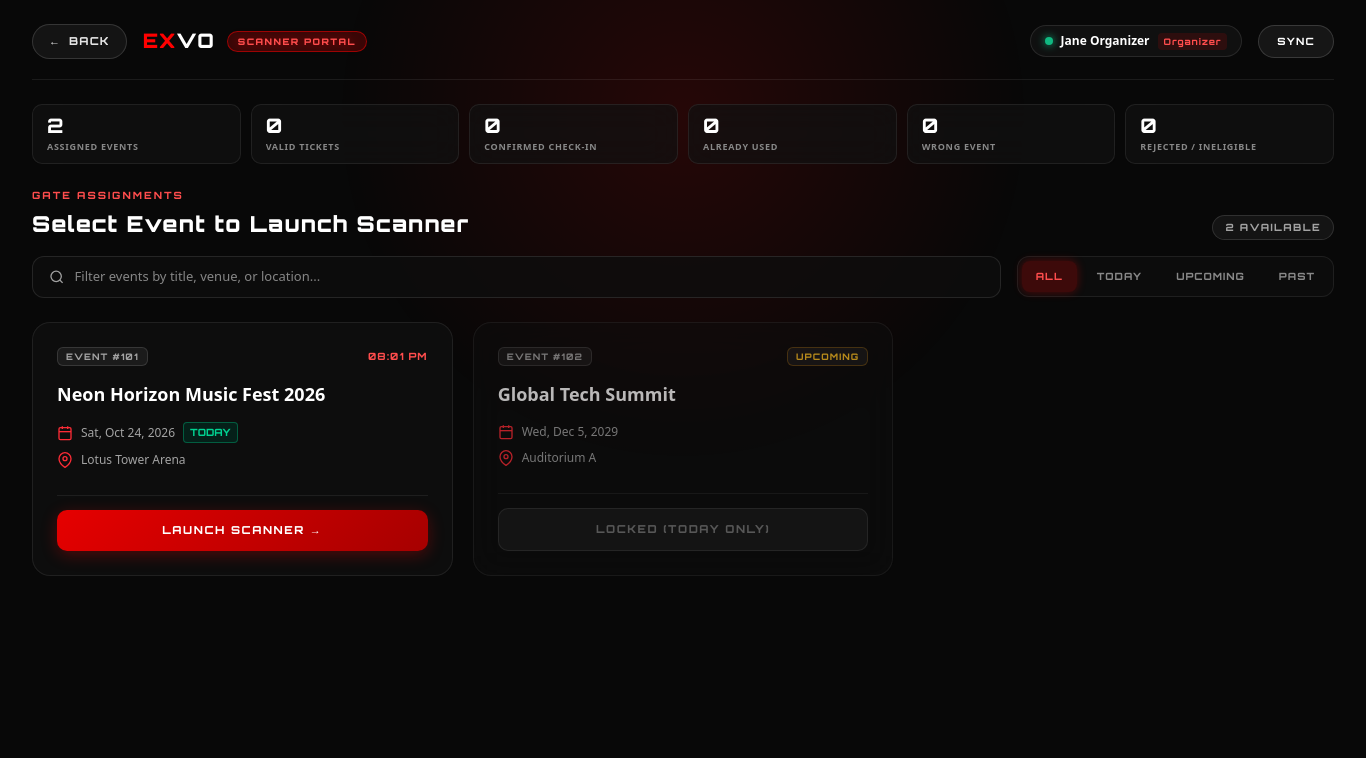
it: CoordinatorScannerPortal (SCRUM-30) › SCRUM-31: handles WRONG_EVENT, ALREADY_USED, and NOT_ELIGIBLE statuses
The width and height of the screenshot is (1366, 758).
Expected: the heading "Neon Horizon Music Fest 2026" is shown, [57,382,325,406]
Click the button "LAUNCH SCANNER →" at (242, 531), box [57,510,428,551]
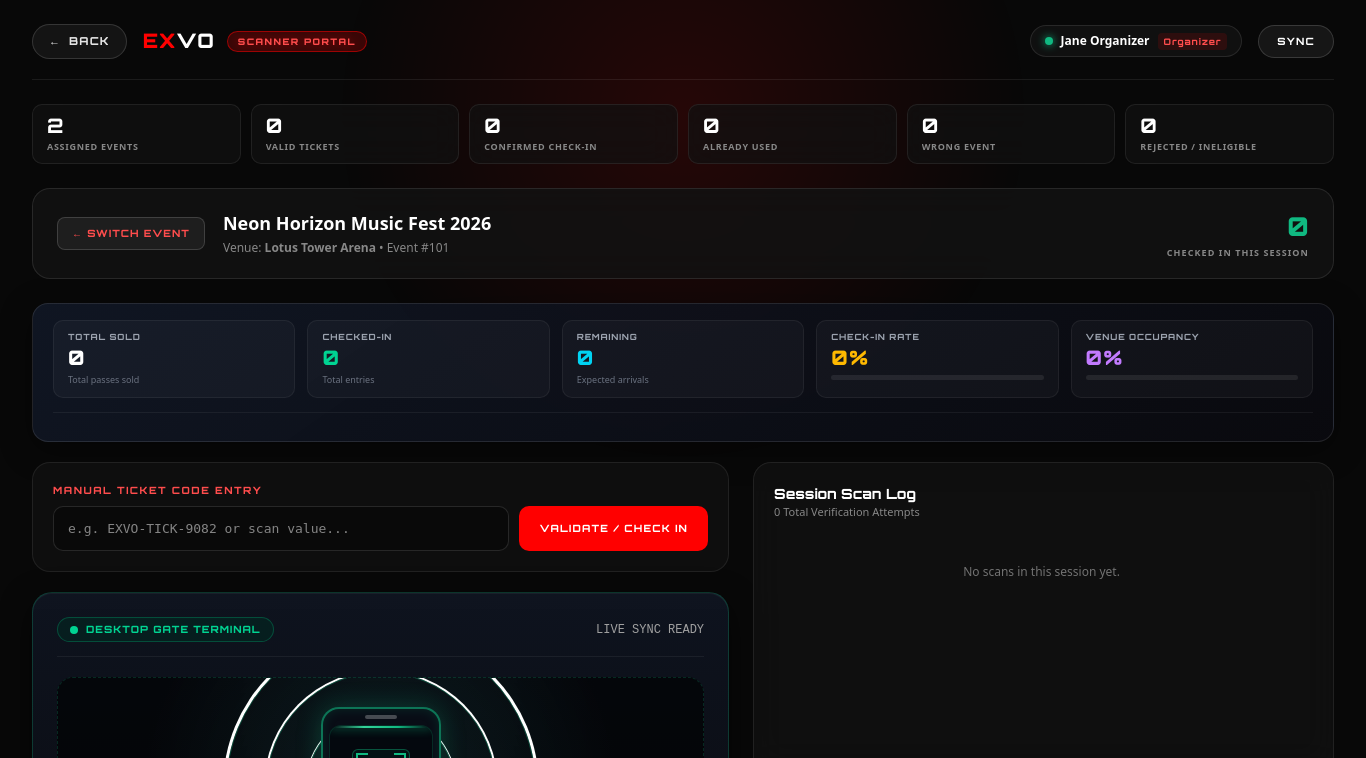
Expected: the field labelled "MANUAL TICKET CODE ENTRY" is shown
Test WRONG_EVENT
Type "TICK-WRONG" into the field labelled "MANUAL TICKET CODE ENTRY" at (281, 529), box [53,506,510,551]
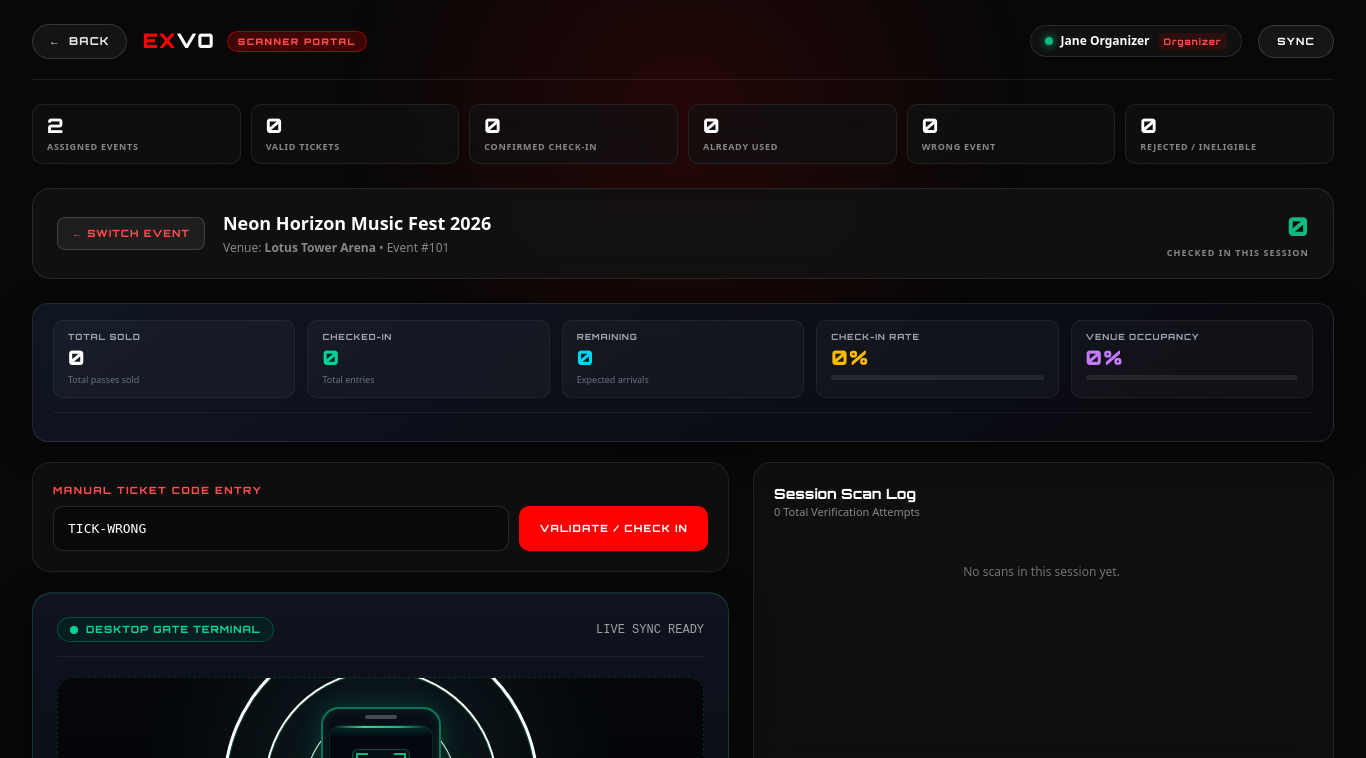
Click the button "VALIDATE / CHECK IN" at (614, 529), box [520,506,708,551]
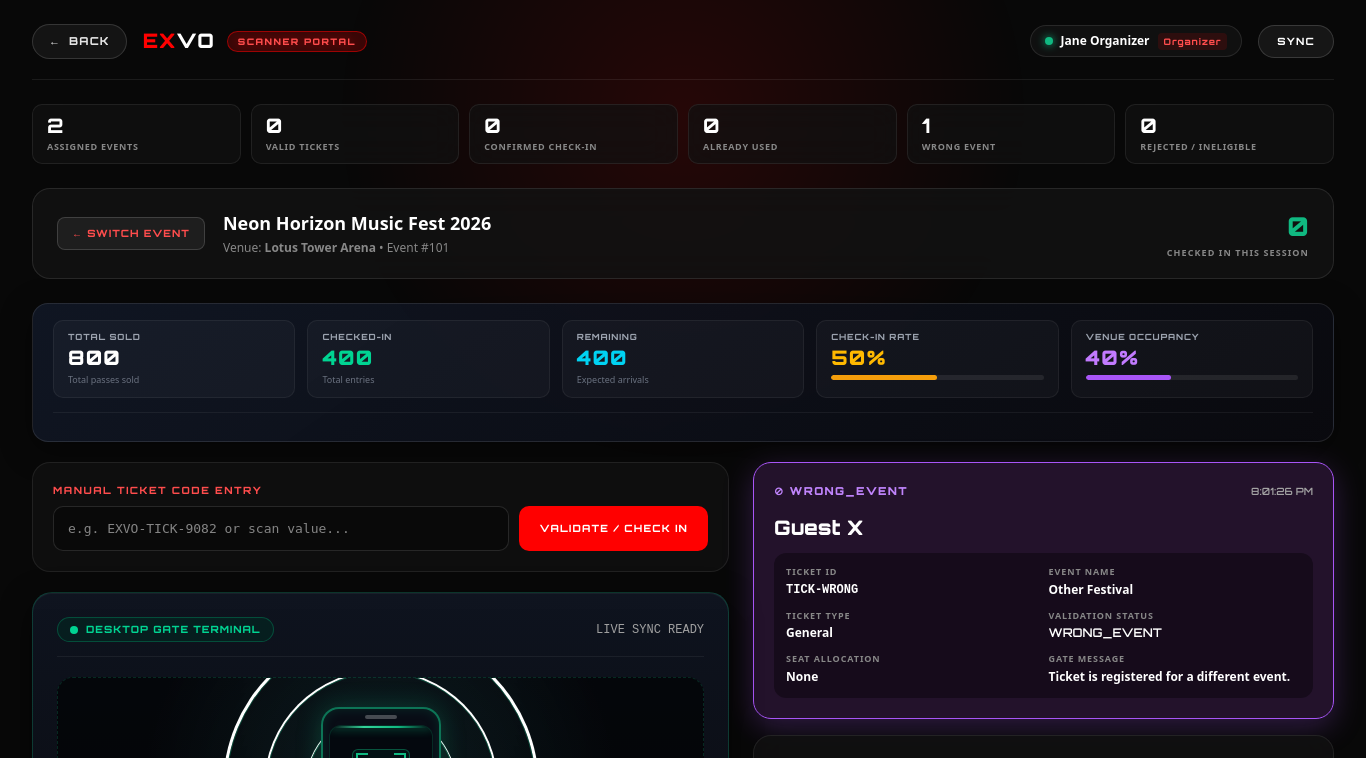
Expected: the text "⊘ WRONG_EVENT" is shown, [774,483,908,499]
Expected: the text "Ticket is registered for a different event." is shown, [1048,668,1301,686]
Test NOT_ELIGIBLE
Type "TICK-INELIGIBLE" into the field labelled "MANUAL TICKET CODE ENTRY" at (281, 529), box [53,506,510,551]
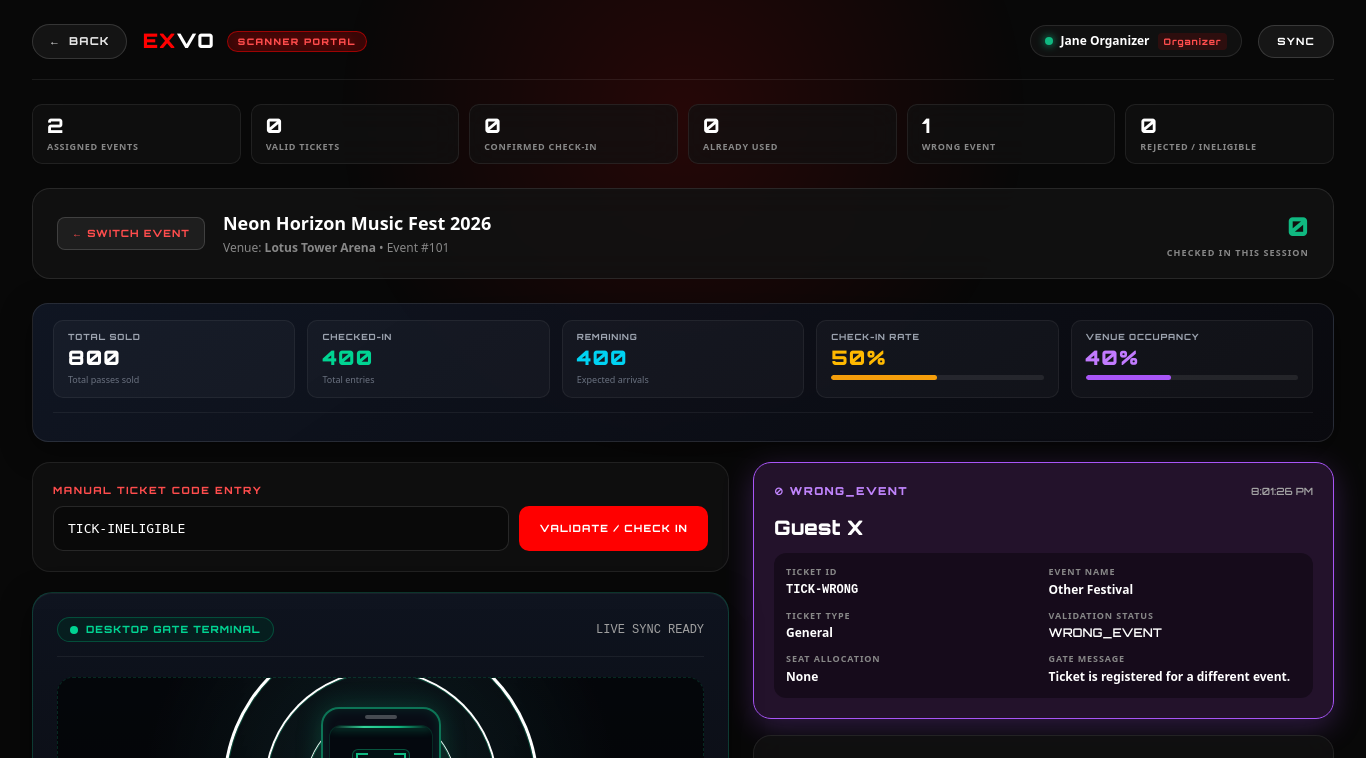
Click the button "VALIDATE / CHECK IN" at (614, 529), box [520,506,708,551]
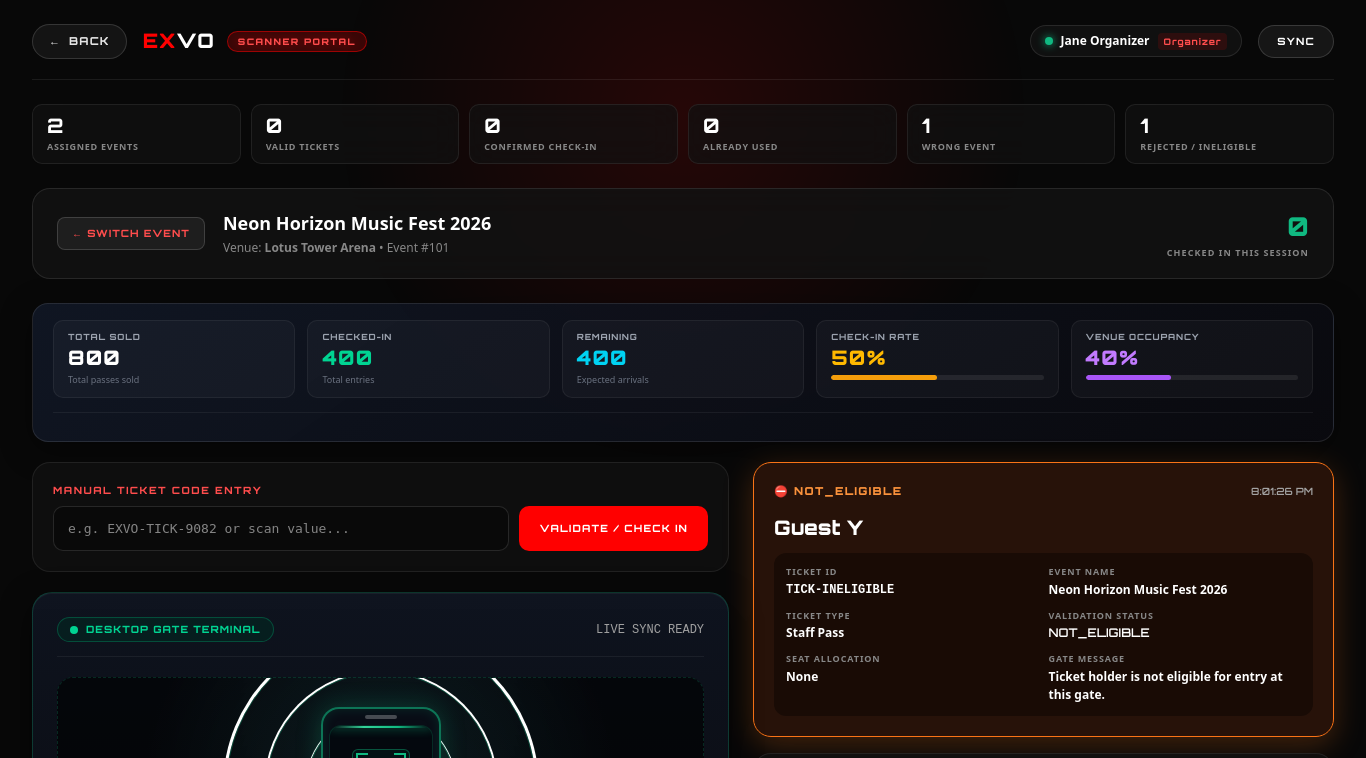
Expected: the text "⛔ NOT_ELIGIBLE" is shown, [774,483,902,499]
Expected: the text "Ticket holder is not eligible for entry at this gate." is shown, [1048,668,1301,704]
